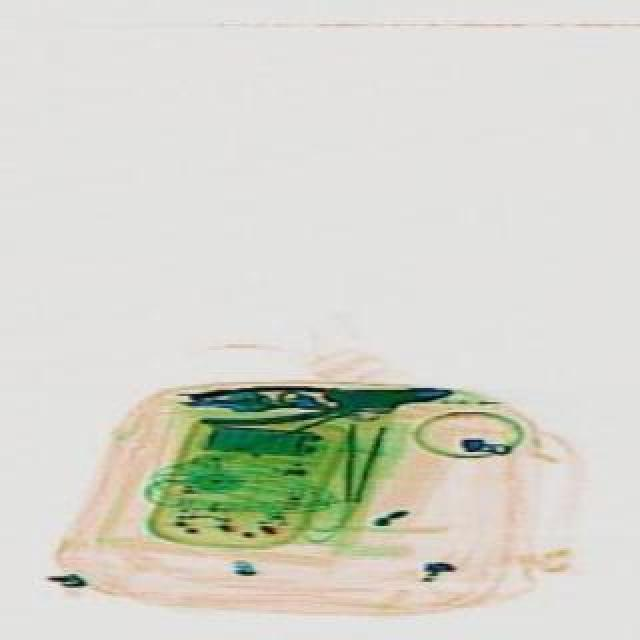wrench: (184, 372, 450, 428)
